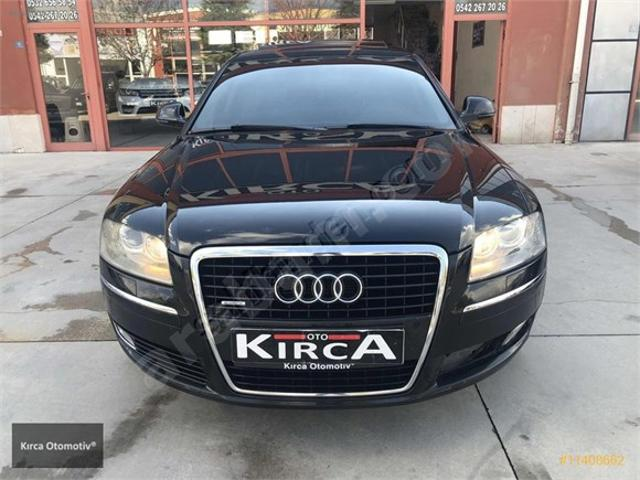audi: (269, 272, 367, 308)
